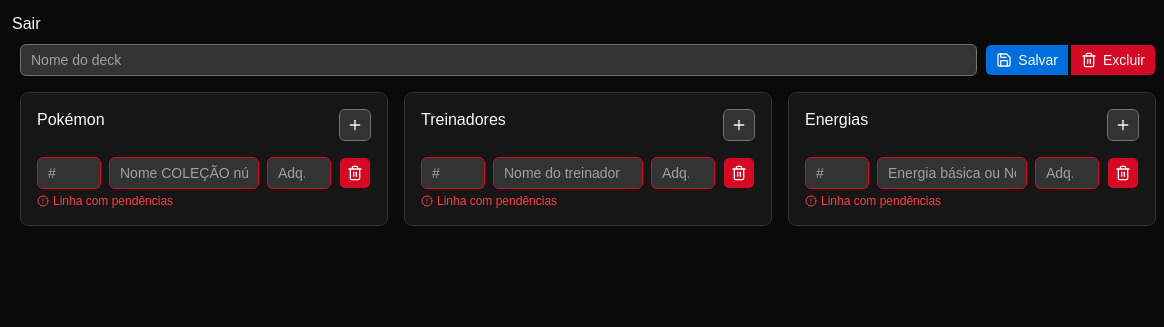
DeckEditor › shows the parser error inline in Pokémon for "Abra XYZ 54" and blocks Save
Type "Deck" into the field with placeholder "Nome do deck" at (499, 60), box [20, 44, 977, 76]
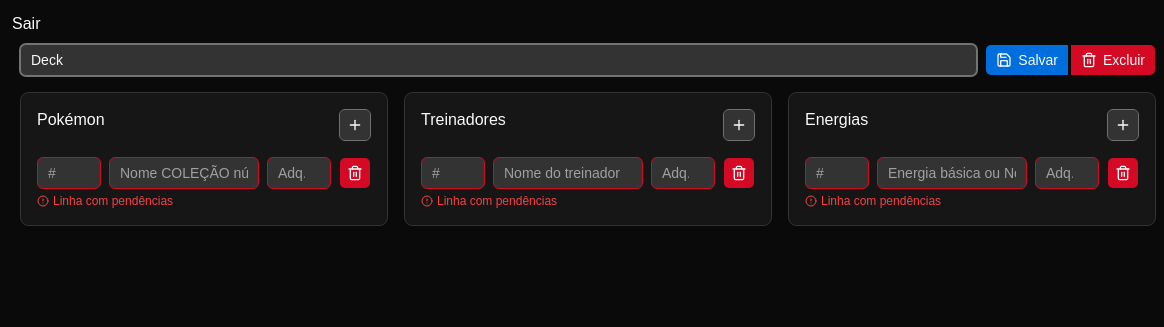
Click the button named "Adicionar carta" at (355, 125), box [339, 109, 371, 141]
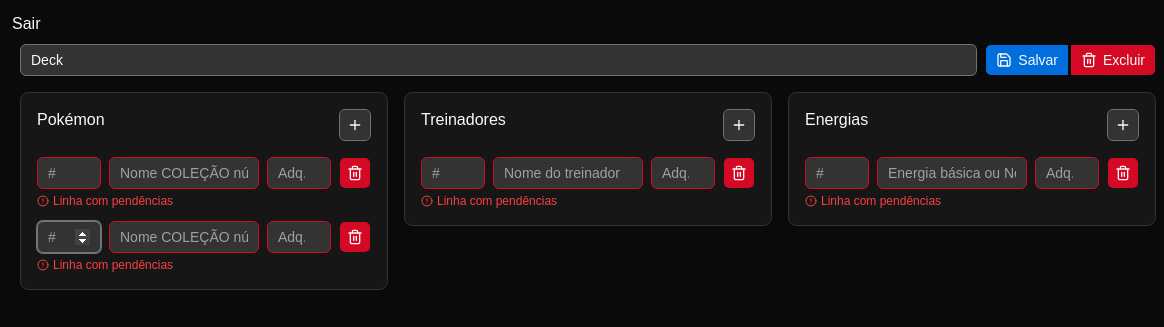
Type "1" into the number field named "Quantidade" at (69, 237), box [37, 221, 101, 253]
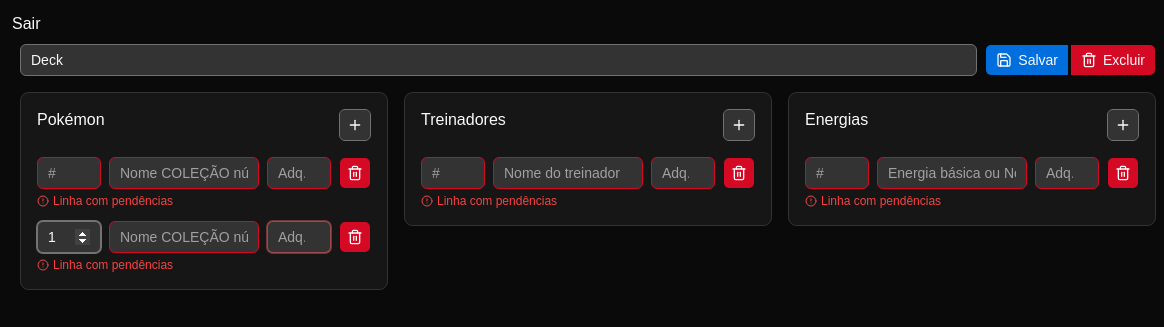
Type "Abra XYZ 54" into the dropdown named "Carta" at (184, 237), box [109, 221, 259, 253]
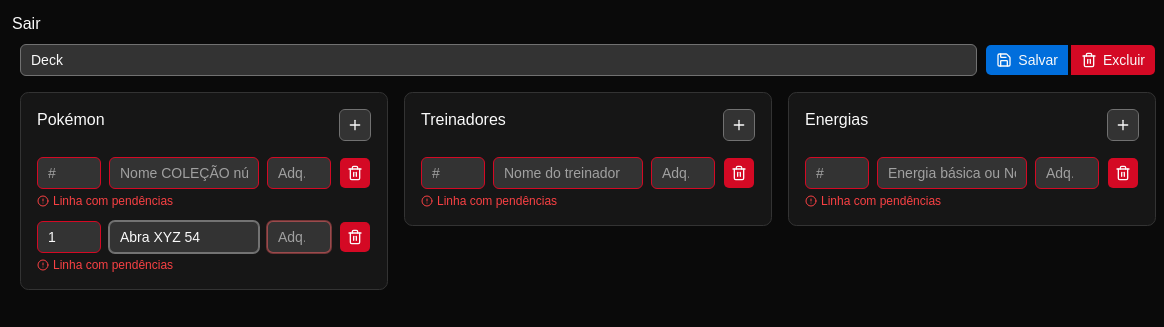
Type "1" into the number field named "Adquirido" at (299, 237), box [267, 221, 331, 253]
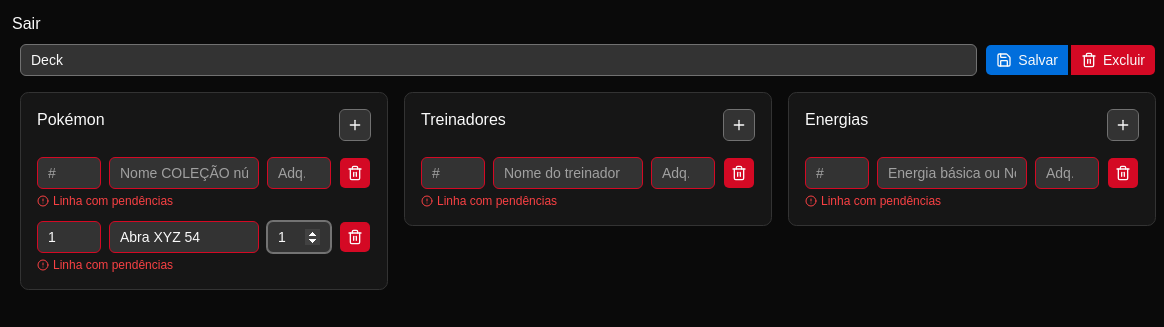
Click the button with aria-label "Salvar deck" at (1027, 60), box [985, 44, 1069, 76]
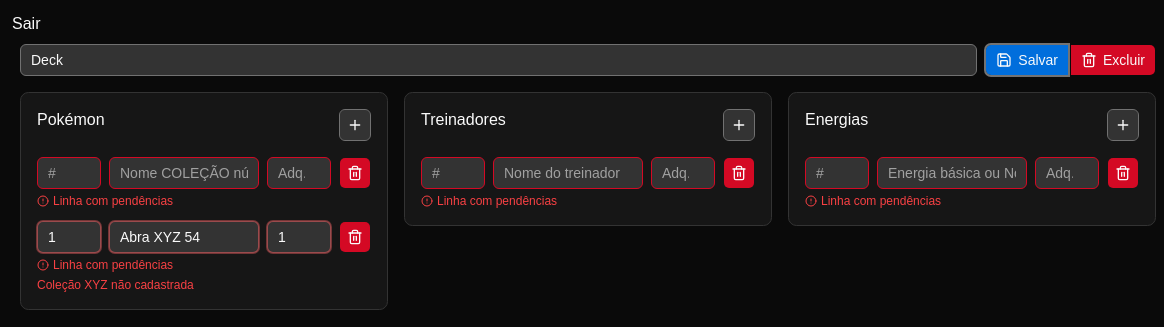
Expected: the message reads "Coleção XYZ não cadastrada", [37, 278, 194, 292]
